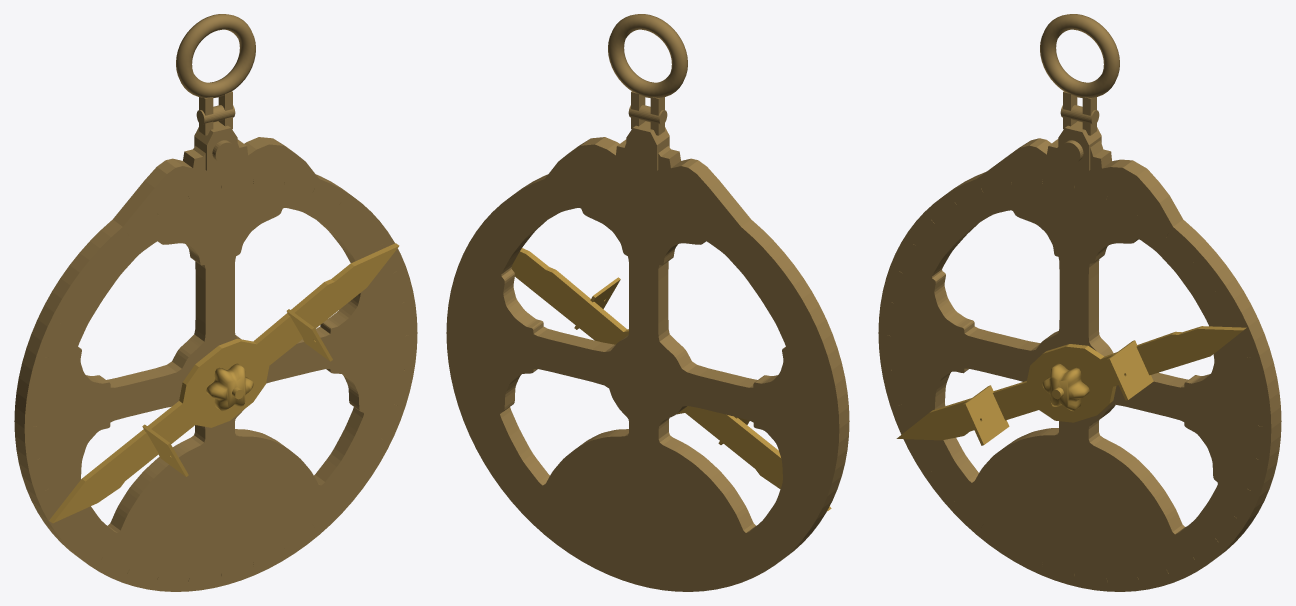
Rendered from NEW686_Astrolabe_LOD1_v001.glb.
3 views of the same model, side by side, from view 1: azimuth 30°, elevation 25°; view 2: azimuth 150°, elevation 25°; view 3: azimuth 330°, elevation 25° (orthographic).
Visible parts, largest first — view 1: NAV0020_cast_frame_and_ballast, Rotating_alidade, Suspension_ring, Six_lobed_central_knob, Suspension_lug, Sight_vane_-1, Sight_vane_1; view 2: NAV0020_cast_frame_and_ballast, Rotating_alidade, Suspension_ring, Suspension_lug; view 3: NAV0020_cast_frame_and_ballast, Rotating_alidade, Suspension_ring, Sight_vane_-1, Sight_vane_1, Six_lobed_central_knob, Suspension_lug.
Boxes of the visible parts, left/top/right/bottom form: NAV0020_cast_frame_and_ballast: left=14, top=137, right=417, bottom=591; Rotating_alidade: left=49, top=243, right=399, bottom=523; Suspension_ring: left=176, top=14, right=255, bottom=97; Six_lobed_central_knob: left=206, top=363, right=253, bottom=411; Suspension_lug: left=194, top=121, right=237, bottom=170; Sight_vane_-1: left=142, top=424, right=188, bottom=476; Sight_vane_1: left=286, top=309, right=332, bottom=361; NAV0020_cast_frame_and_ballast: left=446, top=137, right=849, bottom=591; Rotating_alidade: left=511, top=248, right=831, bottom=511; Suspension_ring: left=608, top=14, right=687, bottom=97; Suspension_lug: left=626, top=121, right=669, bottom=170; NAV0020_cast_frame_and_ballast: left=878, top=138, right=1281, bottom=591; Rotating_alidade: left=896, top=326, right=1246, bottom=440; Suspension_ring: left=1040, top=14, right=1119, bottom=97; Sight_vane_-1: left=963, top=385, right=1009, bottom=445; Sight_vane_1: left=1107, top=340, right=1153, bottom=400; Six_lobed_central_knob: left=1042, top=363, right=1089, bottom=411; Suspension_lug: left=1058, top=121, right=1101, bottom=170.
Bounding box in the file's own units: 0.178 × 0.2456 × 0.032.
